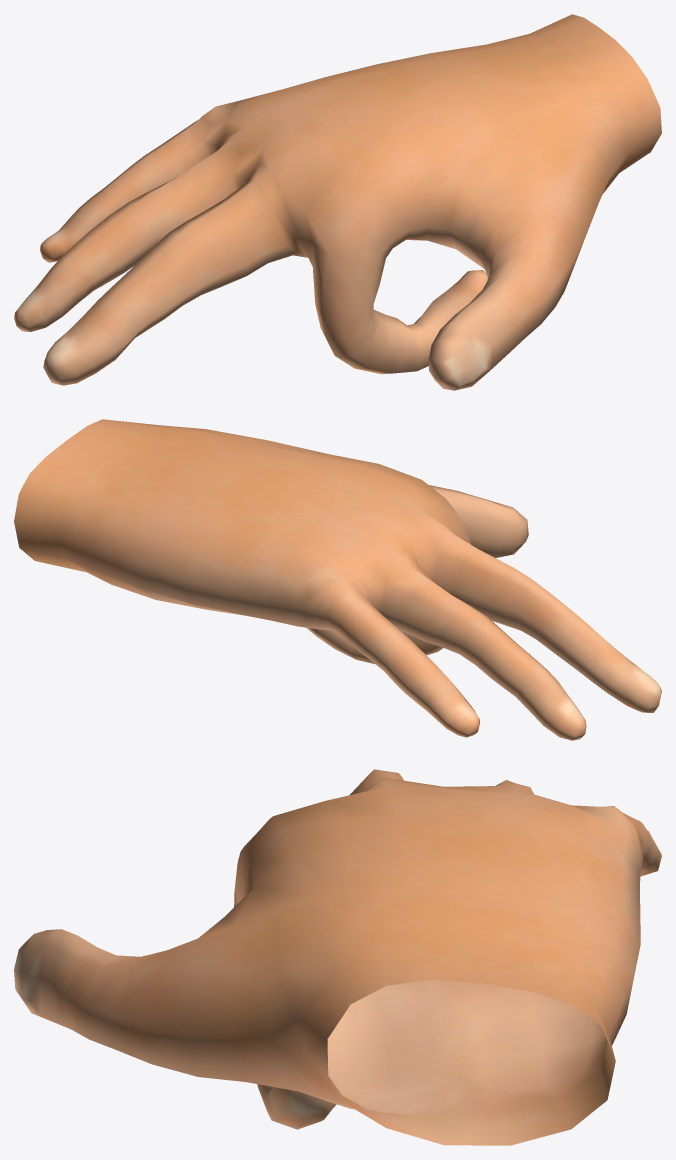
Rendered from F_index_curl.fbx.
The picture shows the model from 3 angles, top to bottom: view 1: azimuth 30°, elevation 25°; view 2: azimuth 150°, elevation 25°; view 3: azimuth 270°, elevation 25°; orthographic projection. The views are drawn at different scales.
Parts seen in each view (by area): view 1: F_index_curl; view 2: F_index_curl; view 3: F_index_curl.
Part boxes in pixels (<box>): F_index_curl: <box>14,14,661,390</box>; F_index_curl: <box>14,419,661,740</box>; F_index_curl: <box>14,769,661,1145</box>.
Size of the model in its own units: 19.93 by 7.33 by 13.69.
1 material, 1 textured.
